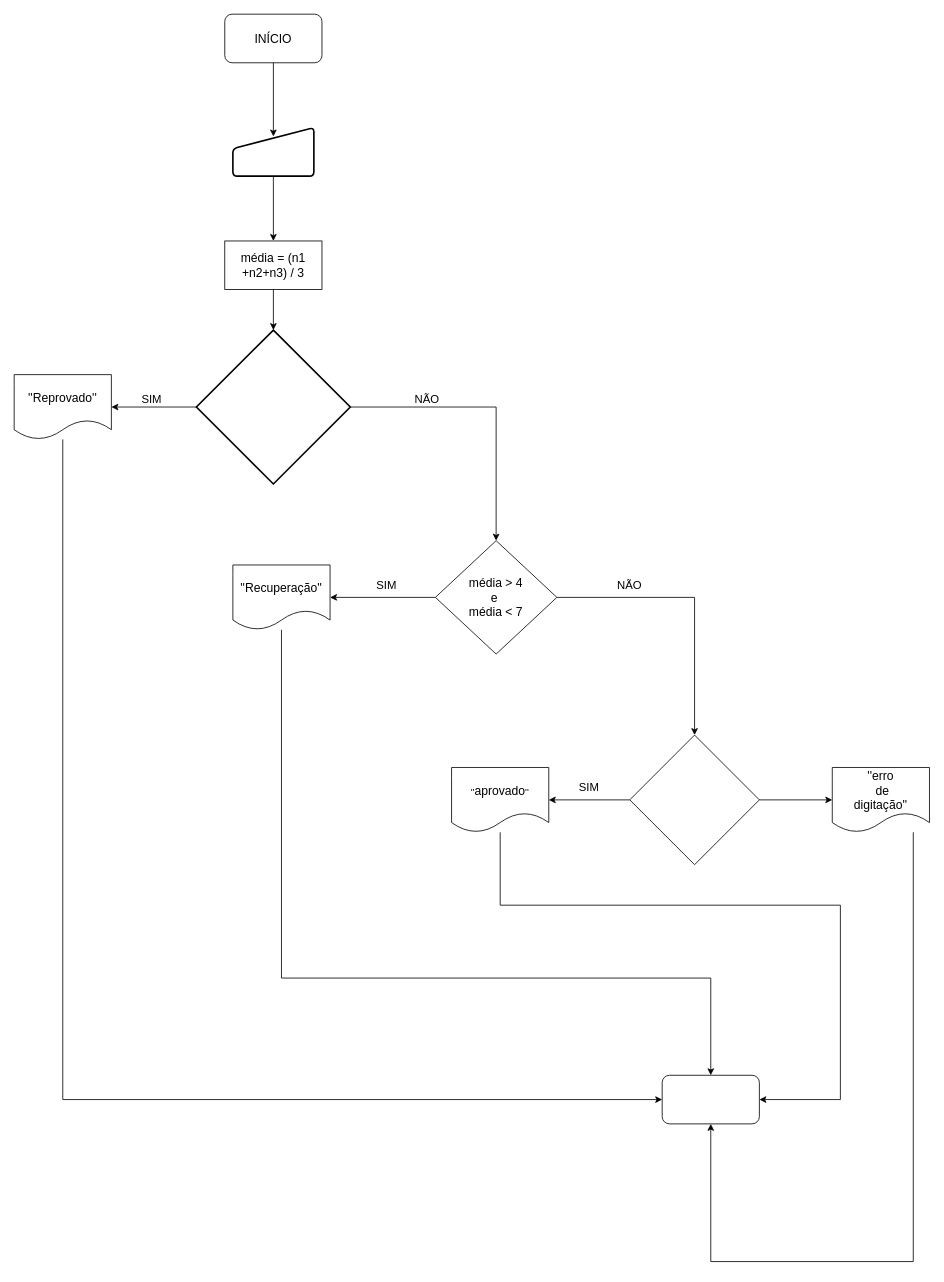
This 944x1282 diagram has some shape labels left out. Here are the shapes that lost their labels. From the top down, the box of each, then its label:
(232, 126, 314, 177): N1,N2,N3
(195, 329, 351, 484): média >= 0 e média <=4
(629, 734, 759, 865): média >= 7 e média <= 10
(661, 1074, 759, 1124): FIM
